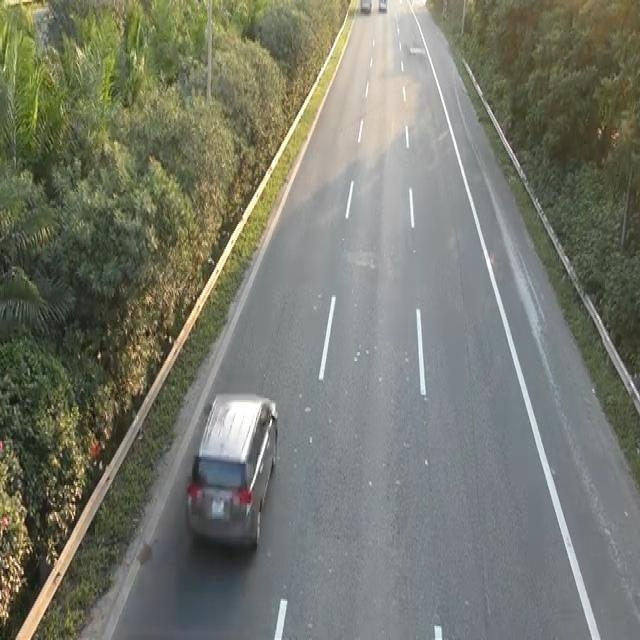car: (183, 388, 280, 551)
